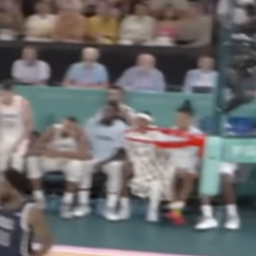hoop: (122, 128, 202, 196)
